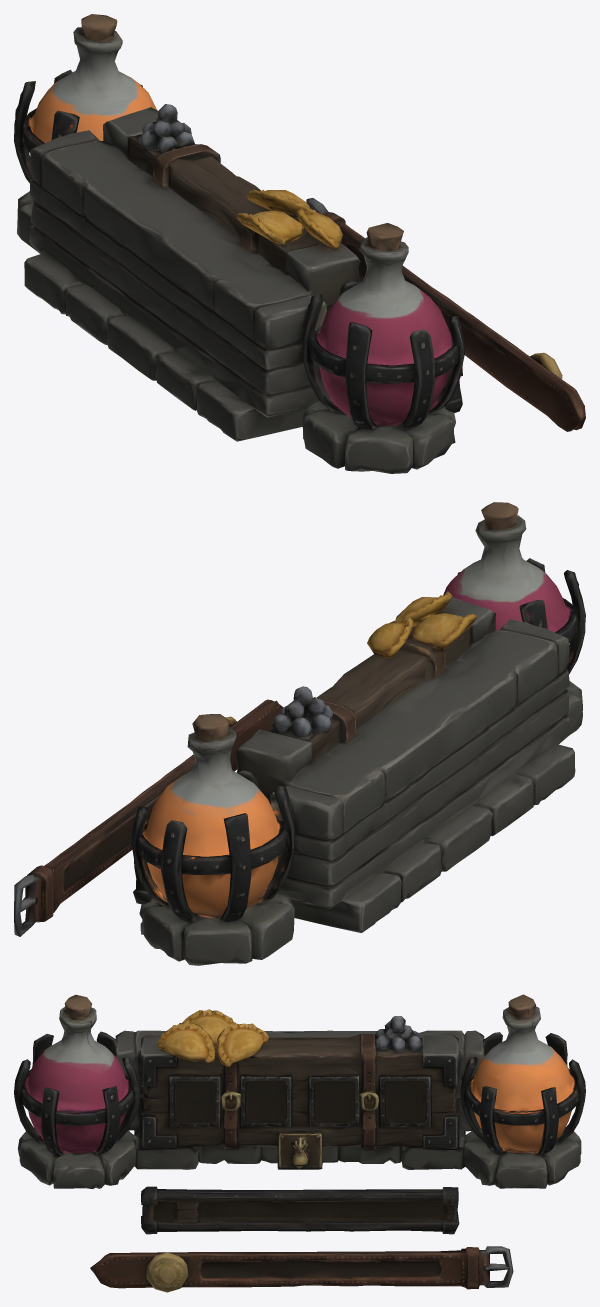
The model's file is 6f1dac14-2b81-4a30-9206-75811f3b9396_model_url.glb.
3 renders of one model, top to bottom at view 1: azimuth 30°, elevation 25°; view 2: azimuth 150°, elevation 25°; view 3: azimuth 270°, elevation 25°, orthographic. The views are drawn at different scales.
Parts seen in each view (by area): view 1: tripo_node_6f1dac14-2b81-4a30-9206-75811f3b9396; view 2: tripo_node_6f1dac14-2b81-4a30-9206-75811f3b9396; view 3: tripo_node_6f1dac14-2b81-4a30-9206-75811f3b9396.
Part boxes in pixels (x1=…): tripo_node_6f1dac14-2b81-4a30-9206-75811f3b9396: x1=14, y1=14, x2=585, y2=473; tripo_node_6f1dac14-2b81-4a30-9206-75811f3b9396: x1=14, y1=502, x2=585, y2=965; tripo_node_6f1dac14-2b81-4a30-9206-75811f3b9396: x1=14, y1=994, x2=585, y2=1292.
Bounding box in the file's own units: 0.5309 × 0.4071 × 1.
Materials: 1 (1 with a texture image).
